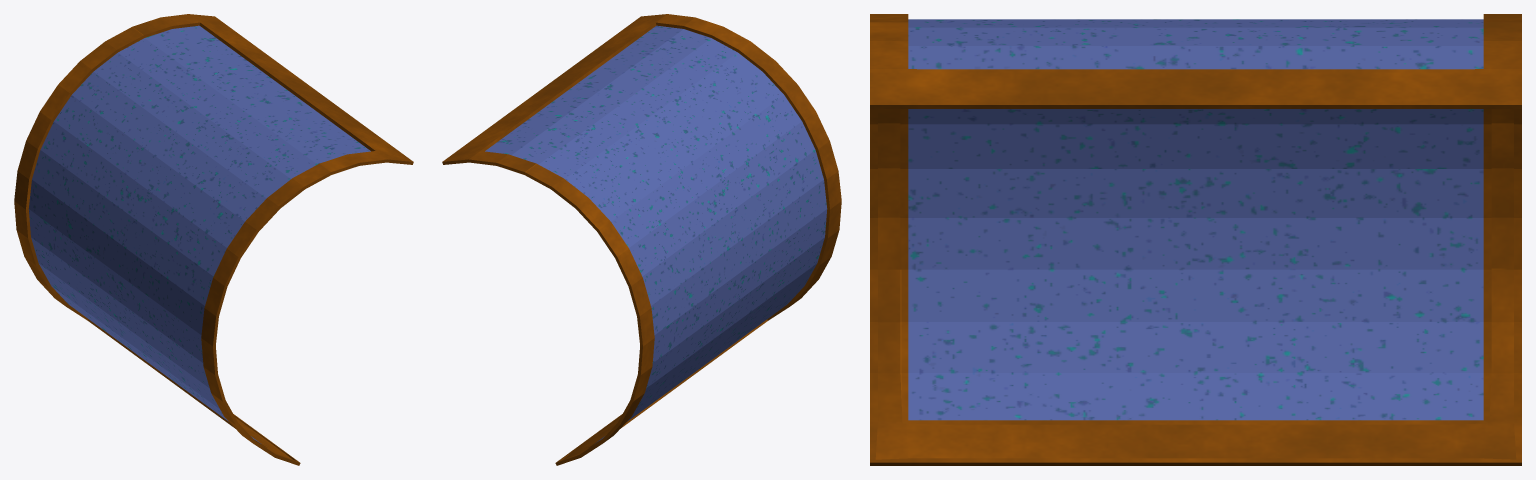
The model's file is Final_Moving valve multitoolcase.glb.
The picture shows the model from 3 angles, left to right: view 1: azimuth 30°, elevation 25°; view 2: azimuth 150°, elevation 25°; view 3: azimuth 270°, elevation 25°; orthographic projection. The views are drawn at different scales.
Parts seen in each view (by area): view 1: Cylinder.006, Cylinder.001; view 2: Cylinder.006, Cylinder.001; view 3: Cylinder.006, Cylinder.001.
Boxes of the visible parts, bbox=[...] form: Cylinder.006: bbox=[28, 25, 370, 443]; Cylinder.001: bbox=[14, 14, 413, 465]; Cylinder.006: bbox=[485, 25, 827, 443]; Cylinder.001: bbox=[442, 14, 841, 465]; Cylinder.006: bbox=[908, 19, 1483, 420]; Cylinder.001: bbox=[870, 14, 1521, 465].
Bounding box in the file's own units: 4.01 × 5.5 × 6.87.
Materials: 2 (2 with a texture image).
